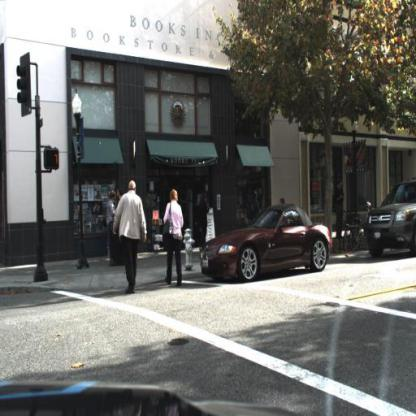car: (200, 196, 334, 285), (366, 179, 416, 258), (164, 186, 185, 288)
pedestrian: (112, 171, 152, 297), (113, 183, 129, 261), (196, 186, 212, 260), (104, 189, 119, 263), (333, 178, 349, 242), (245, 189, 261, 221)
